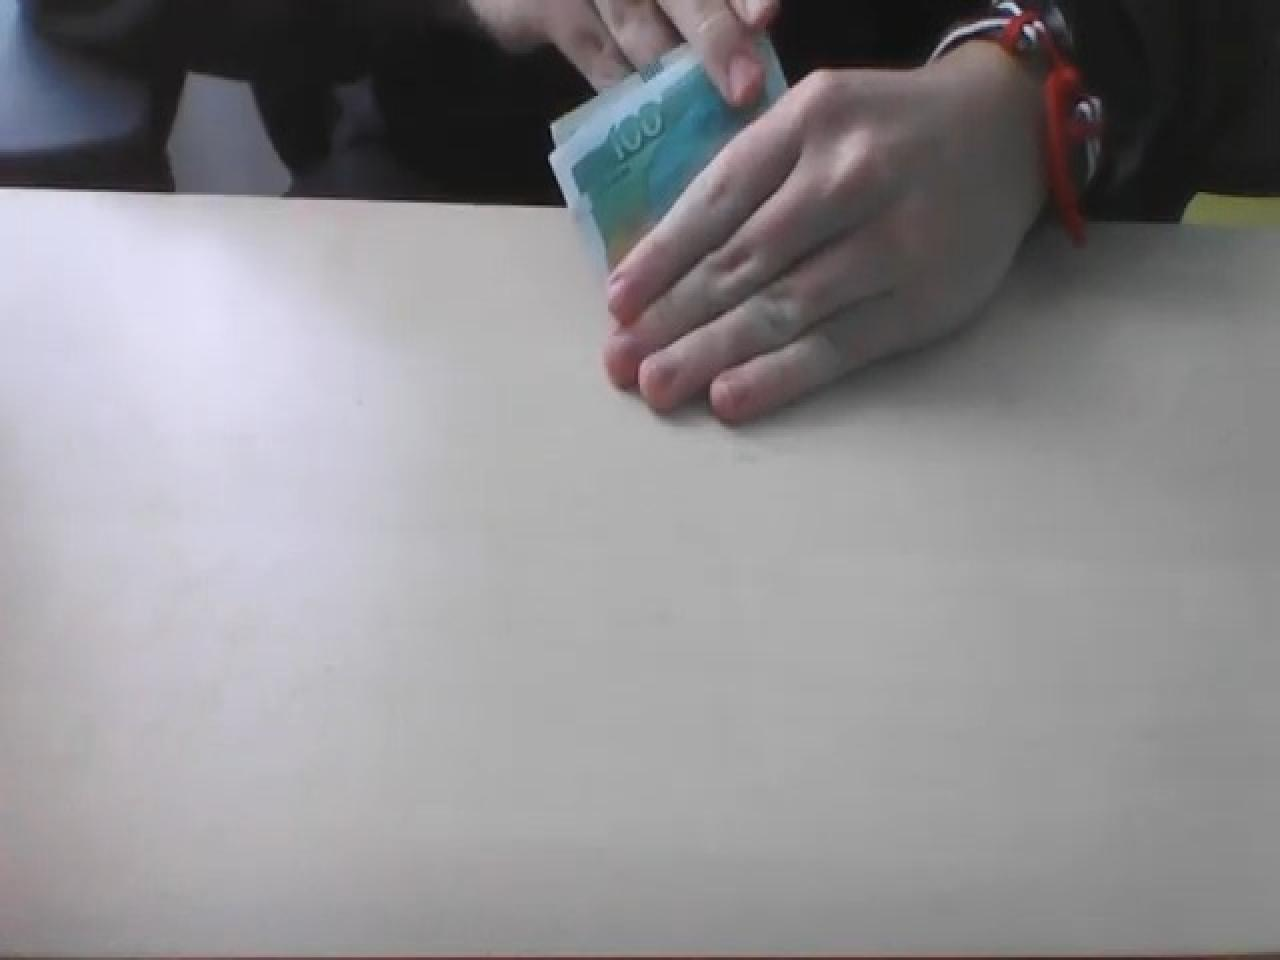100leva: (550, 45, 786, 269)
